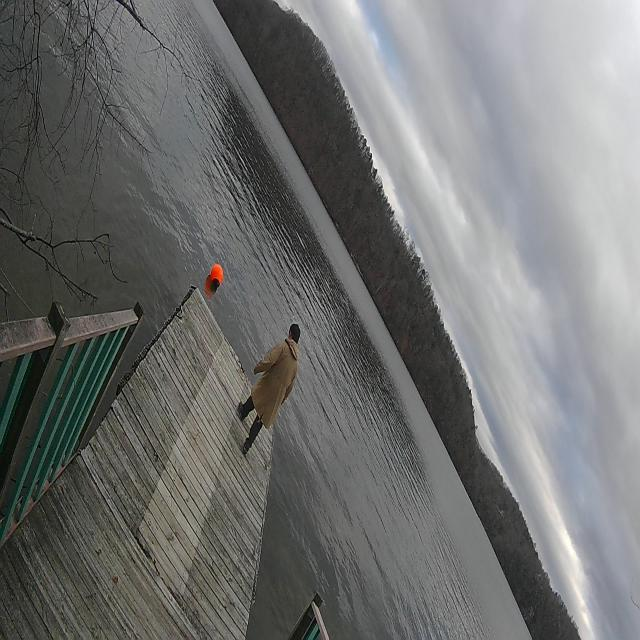Buoy: (206, 253, 227, 306)
